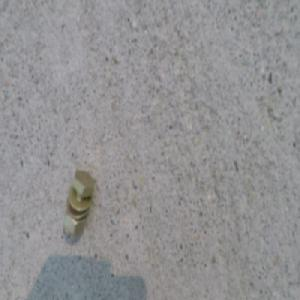BoltNutSet: (60, 164, 92, 236)
